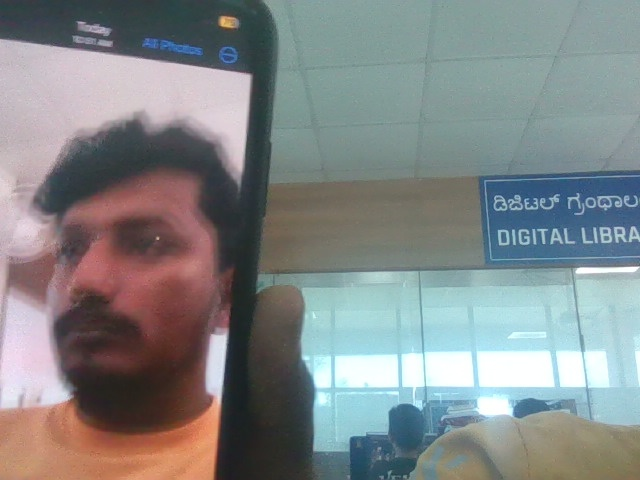fake: (13, 84, 248, 417)
